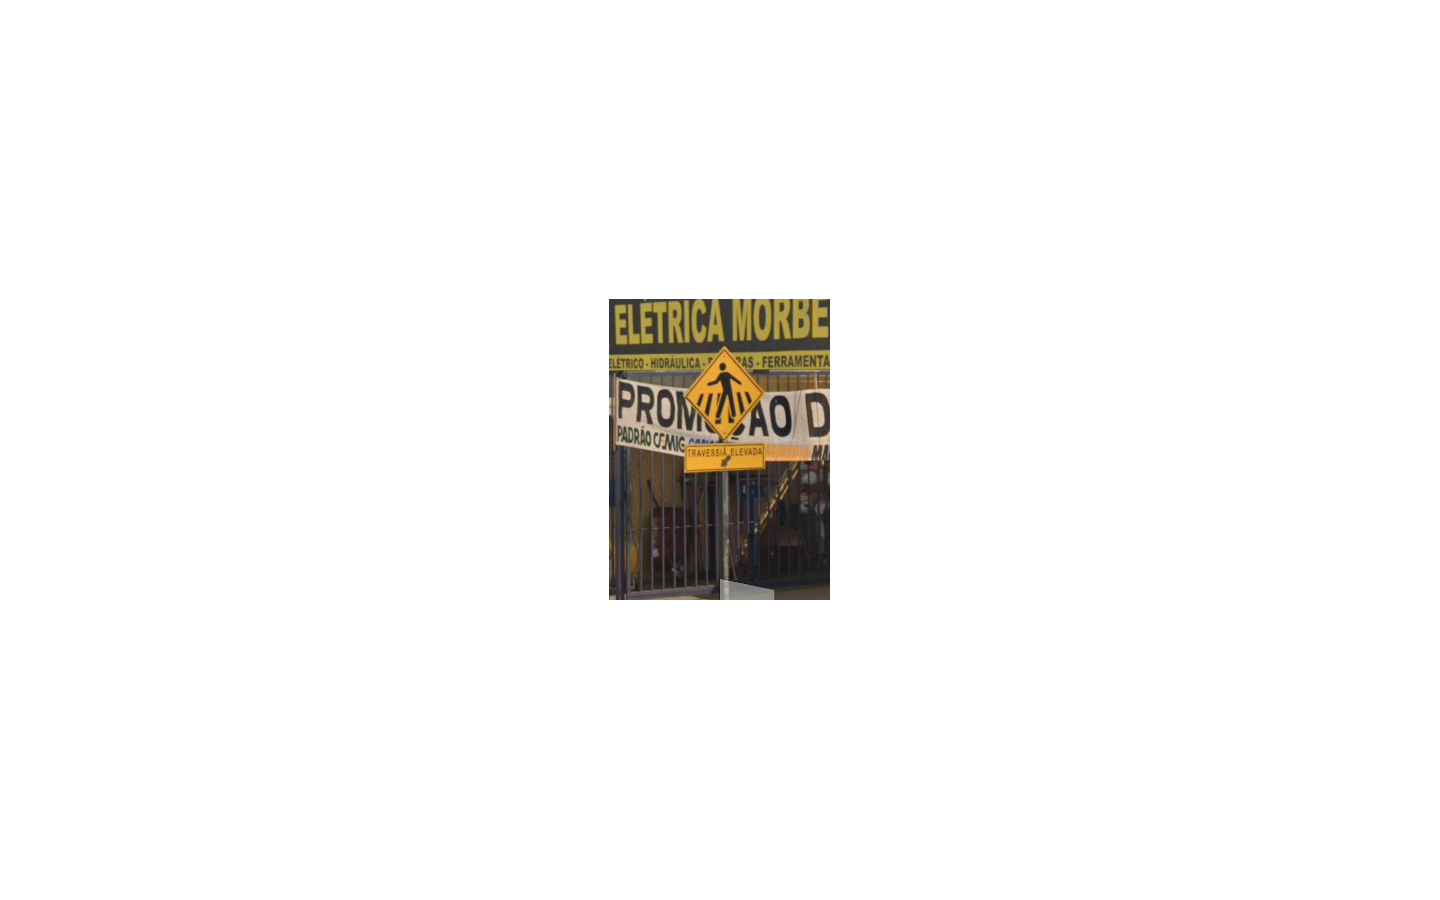telev: (684, 345, 765, 472)
